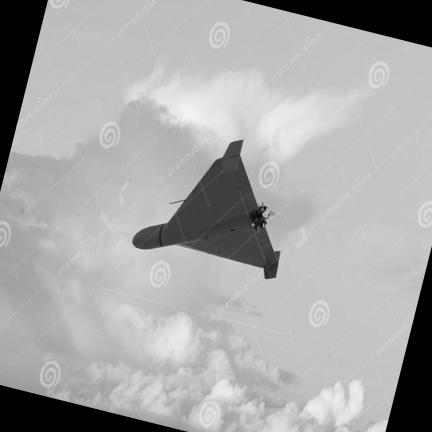Shahed: (133, 140, 280, 279)
